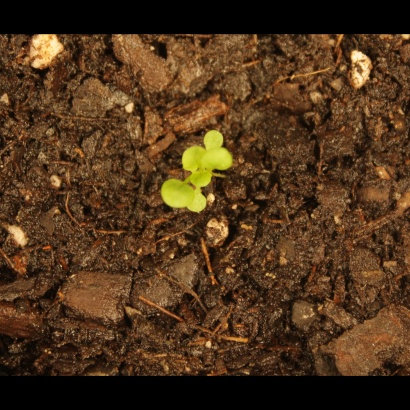leaf: (159, 177, 197, 211), (201, 146, 236, 176), (180, 143, 208, 174), (184, 188, 211, 217), (190, 168, 213, 191), (202, 129, 225, 152)
